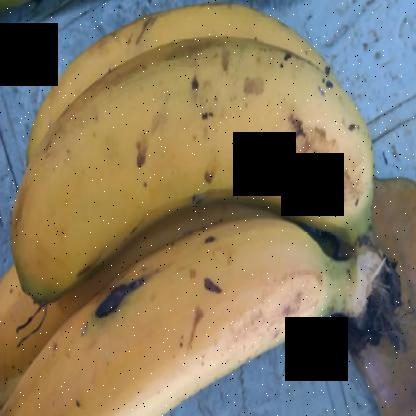ripe: (10, 28, 405, 298), (4, 217, 326, 415)
